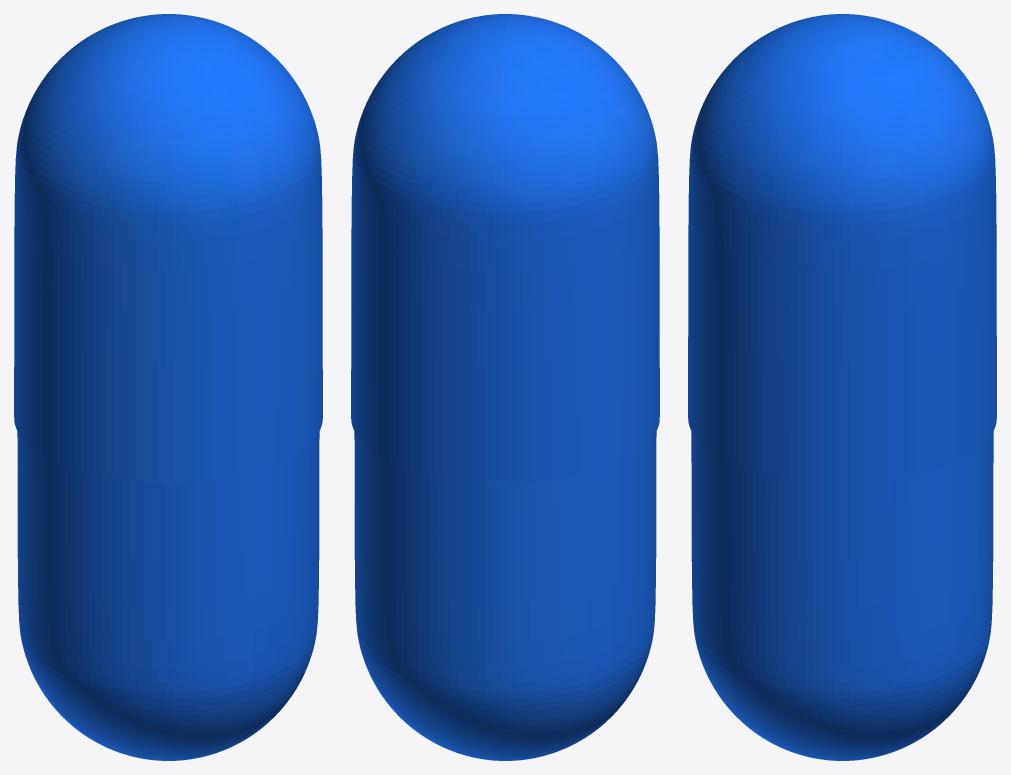
The model's file is カプセル.fbx.
3 views of the same model, side by side, from view 1: azimuth 30°, elevation 25°; view 2: azimuth 150°, elevation 25°; view 3: azimuth 270°, elevation 25° (orthographic).
Visible parts, largest first — view 1: 球; view 2: 球; view 3: 球.
Boxes of the visible parts, left/top/right/bottom form: 球: left=14, top=14, right=322, bottom=760; 球: left=351, top=14, right=659, bottom=760; 球: left=688, top=14, right=996, bottom=760.
Bounding box in the file's own units: 203 × 523 × 203.
